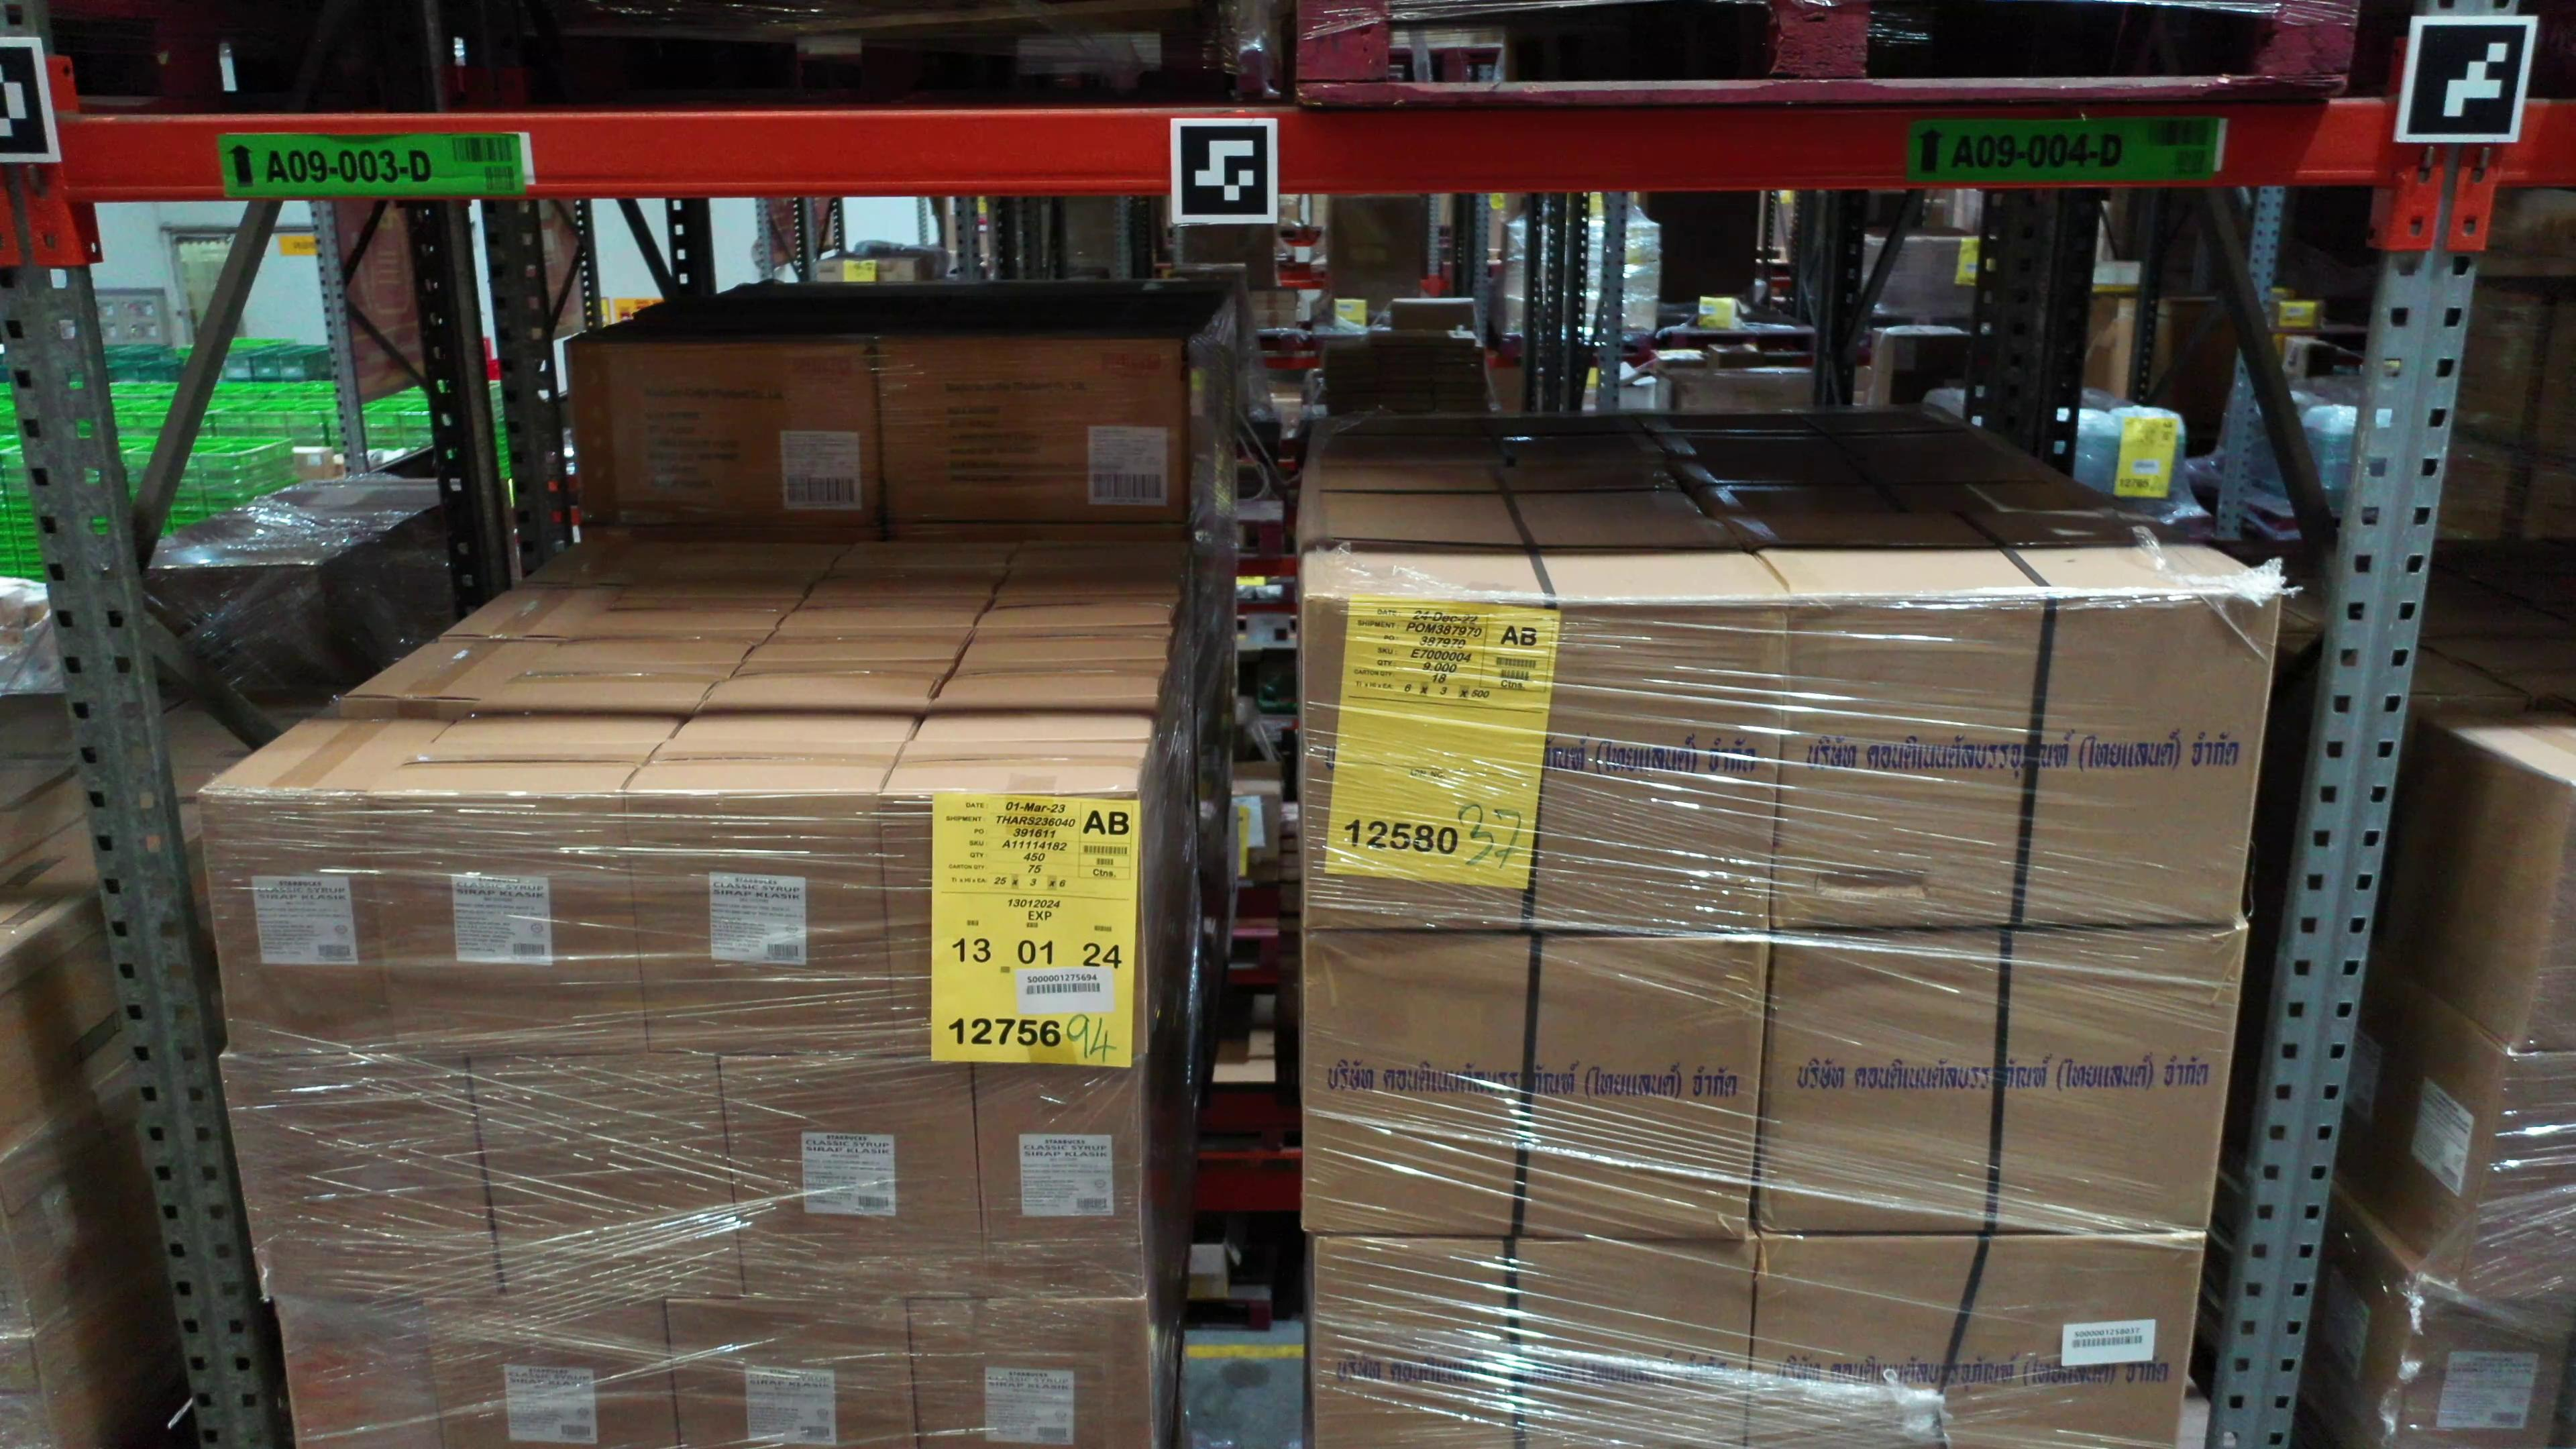-: (1764, 594, 2282, 938), (1302, 594, 1794, 938), (1753, 931, 2249, 1237), (1299, 929, 1769, 1244), (1746, 1230, 2204, 1449), (1311, 1237, 1760, 1449), (373, 793, 651, 1062), (623, 793, 901, 1060), (874, 793, 1148, 1060), (221, 1053, 502, 1302), (717, 1054, 993, 1300), (472, 1058, 747, 1302), (196, 787, 398, 1060), (973, 1056, 1148, 1302), (665, 1302, 924, 1449), (432, 1300, 685, 1449), (909, 1299, 1155, 1449), (2380, 1277, 2576, 1449), (2456, 1051, 2576, 1299), (269, 1297, 444, 1449), (2514, 789, 2576, 1051)
box: (568, 341, 883, 529), (874, 340, 1187, 527)
